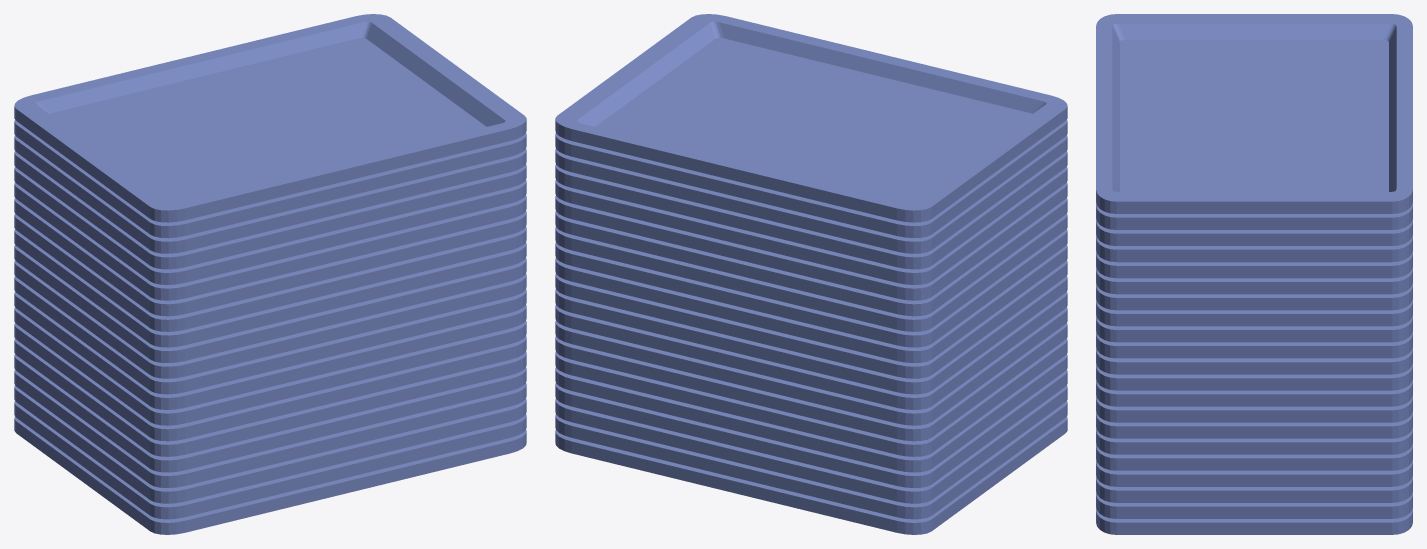
The model's file is pilha_bandejas1.glb.
3 views of the same model, side by side, from view 1: azimuth 30°, elevation 25°; view 2: azimuth 150°, elevation 25°; view 3: azimuth 270°, elevation 25° (orthographic). The views are drawn at different scales.
Visible parts, largest first — view 1: pilhaBandejas.001; view 2: pilhaBandejas.001; view 3: pilhaBandejas.001.
Boxes of the visible parts, box(x1,y1,x2,y2) form: pilhaBandejas.001: box(14, 14, 526, 534); pilhaBandejas.001: box(555, 14, 1067, 534); pilhaBandejas.001: box(1096, 14, 1412, 534).
Size of the model in its own units: 1.27 by 1.05 by 0.9041.
